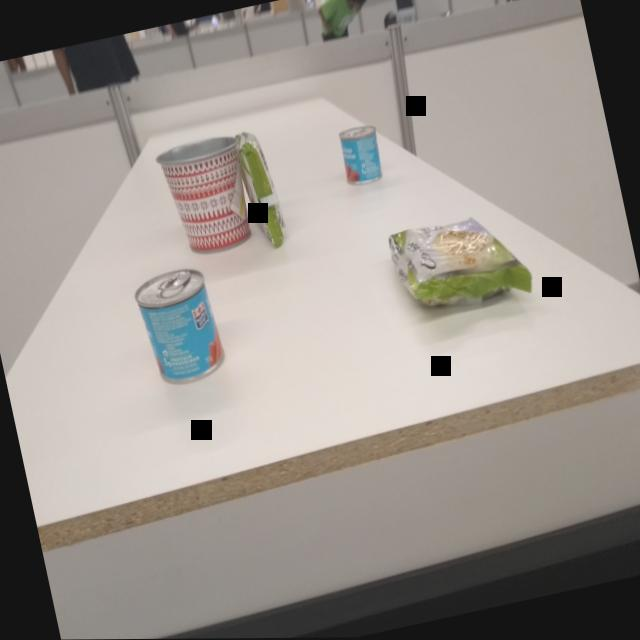noodles: (380, 198, 541, 331), (225, 118, 297, 262)
sausages: (128, 259, 234, 396), (332, 120, 391, 191)
